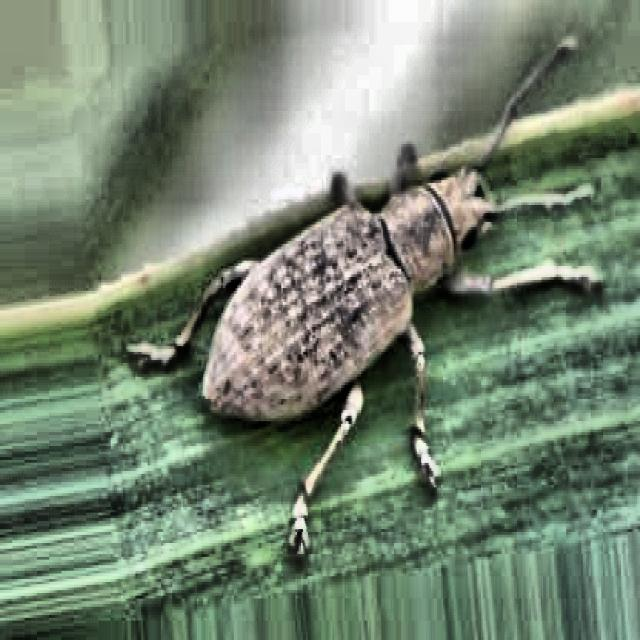Stink bug: (184, 45, 548, 532)
